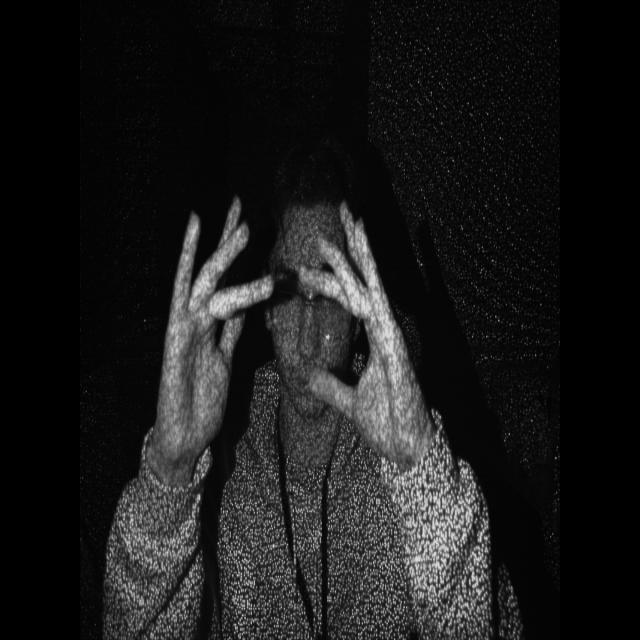REACH: (162, 178, 427, 459)
